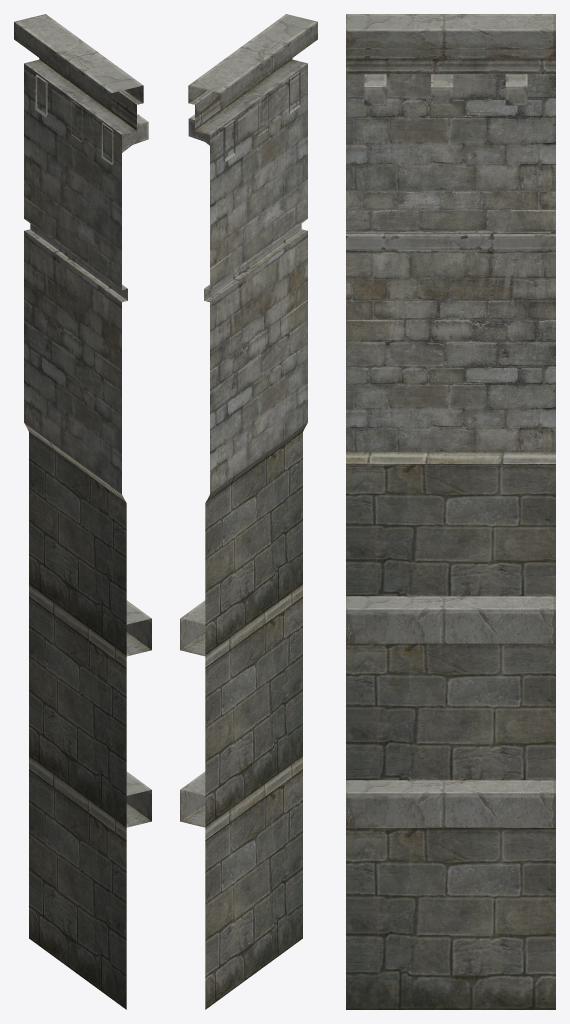
The model's file is bg_lut_lucastle_wall02_sm_lkj.FBX.
3 views of the same model, side by side, from view 1: azimuth 30°, elevation 25°; view 2: azimuth 150°, elevation 25°; view 3: azimuth 270°, elevation 25° (orthographic). The views are drawn at different scales.
Visible parts, largest first — view 1: bg_lut_lucastle_wall02_sm_lkj; view 2: bg_lut_lucastle_wall02_sm_lkj; view 3: bg_lut_lucastle_wall02_sm_lkj.
Part boxes in pixels (x1,y1,x2,y2): bg_lut_lucastle_wall02_sm_lkj: [14, 14, 151, 1009]; bg_lut_lucastle_wall02_sm_lkj: [180, 14, 317, 1009]; bg_lut_lucastle_wall02_sm_lkj: [346, 14, 555, 1009].
Size of the model in its own units: 69.57 by 1330 by 256.
